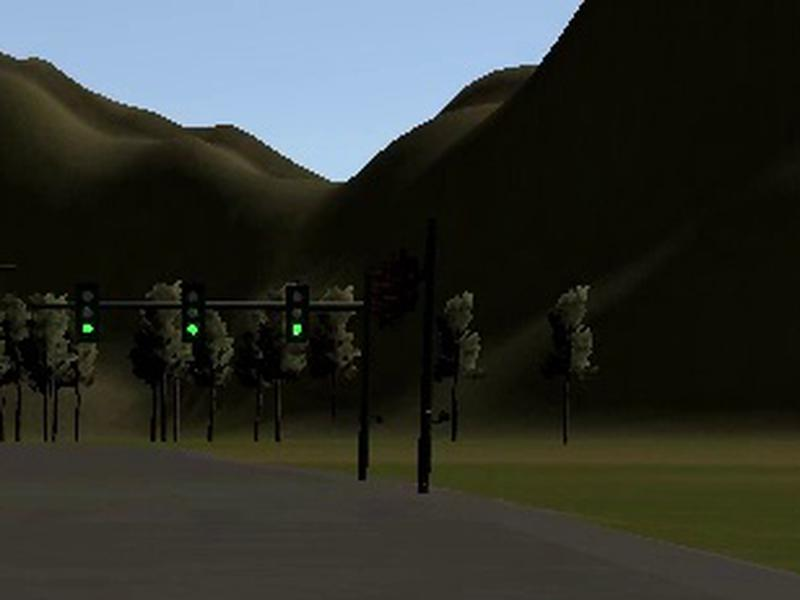Green: (285, 284, 310, 344), (182, 282, 206, 343), (75, 281, 99, 341)
